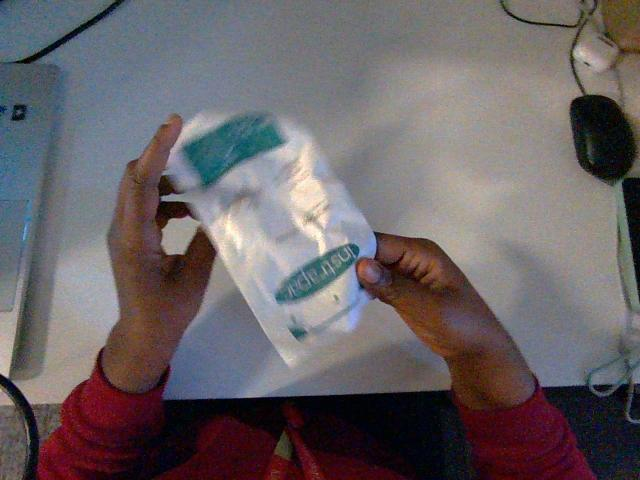gallipot: (166, 113, 375, 365)
